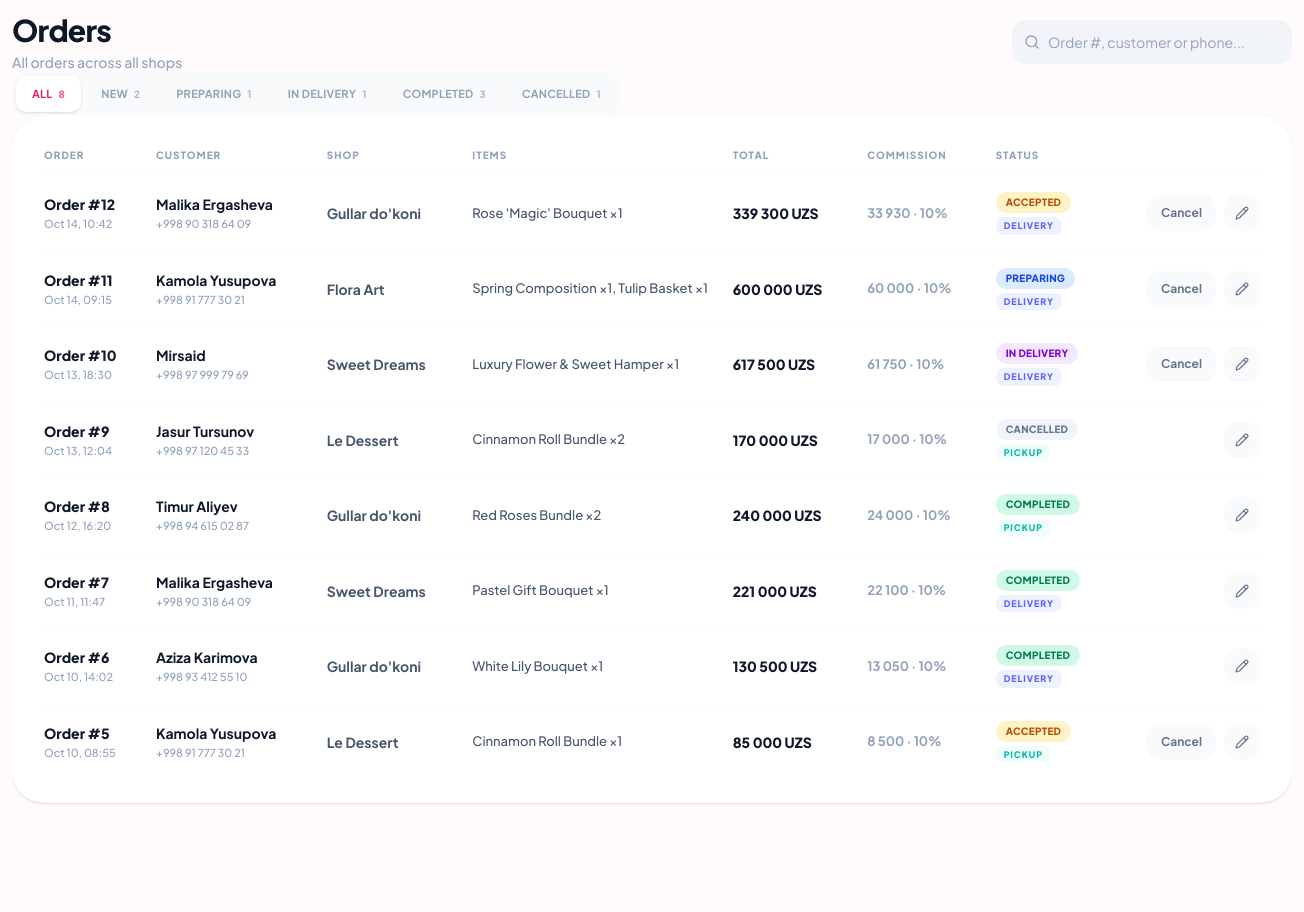
OrdersPage › only offers Cancel on unfinished orders, and cancels
The width and height of the screenshot is (1304, 912).
Expected: the text "Order #12" is shown, left=44, top=195, right=115, bottom=213
Click the button "Cancel" in the row of "Order #12" at [1182, 213], box left=1147, top=195, right=1216, bottom=231
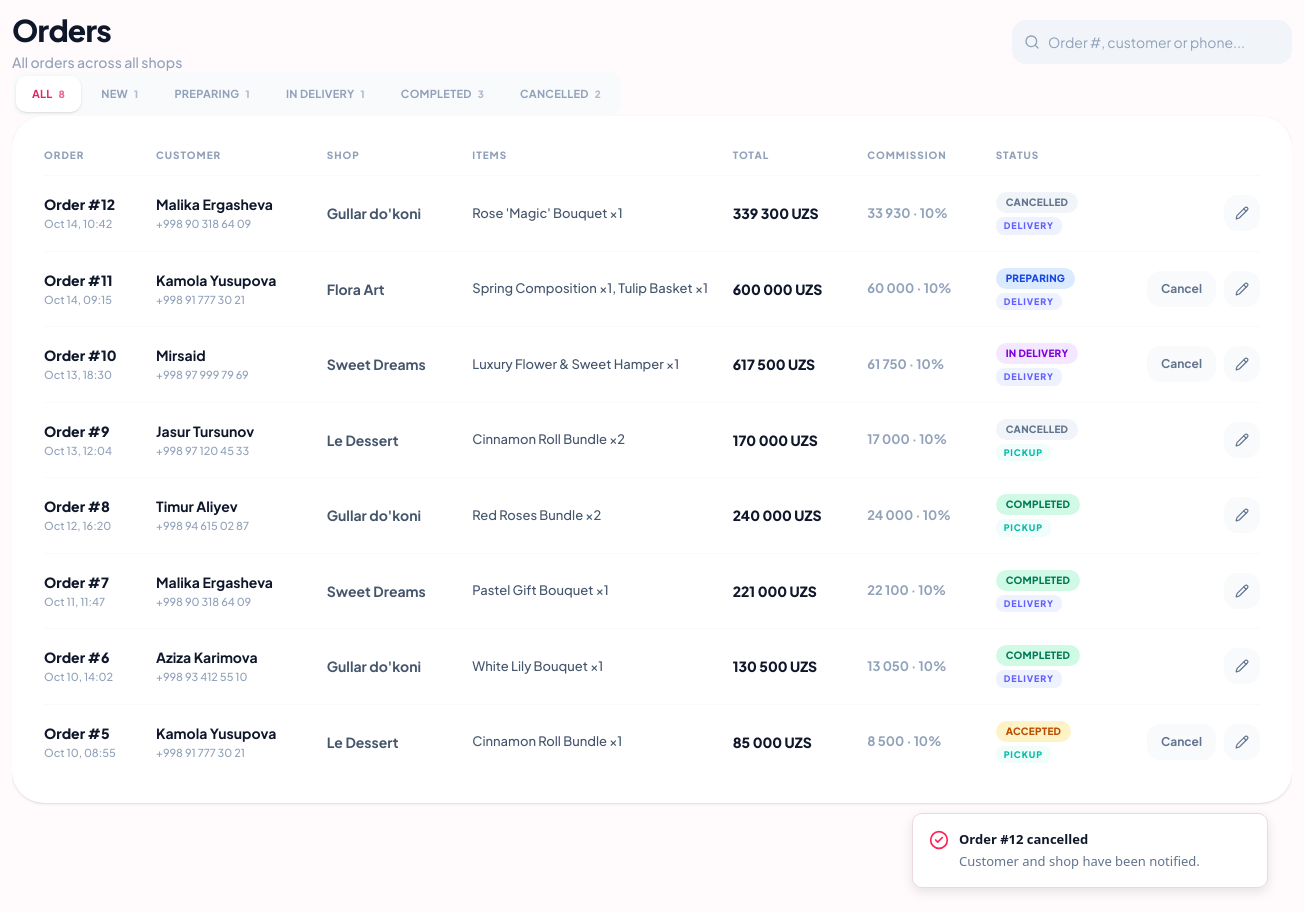
Result: the text "Order #12 cancelled" is shown at left=959, top=830, right=1088, bottom=848
Result: the text "CANCELLED" in the row of "Rose 'Magic' Bouquet ×1" is shown at left=1006, top=196, right=1068, bottom=208
